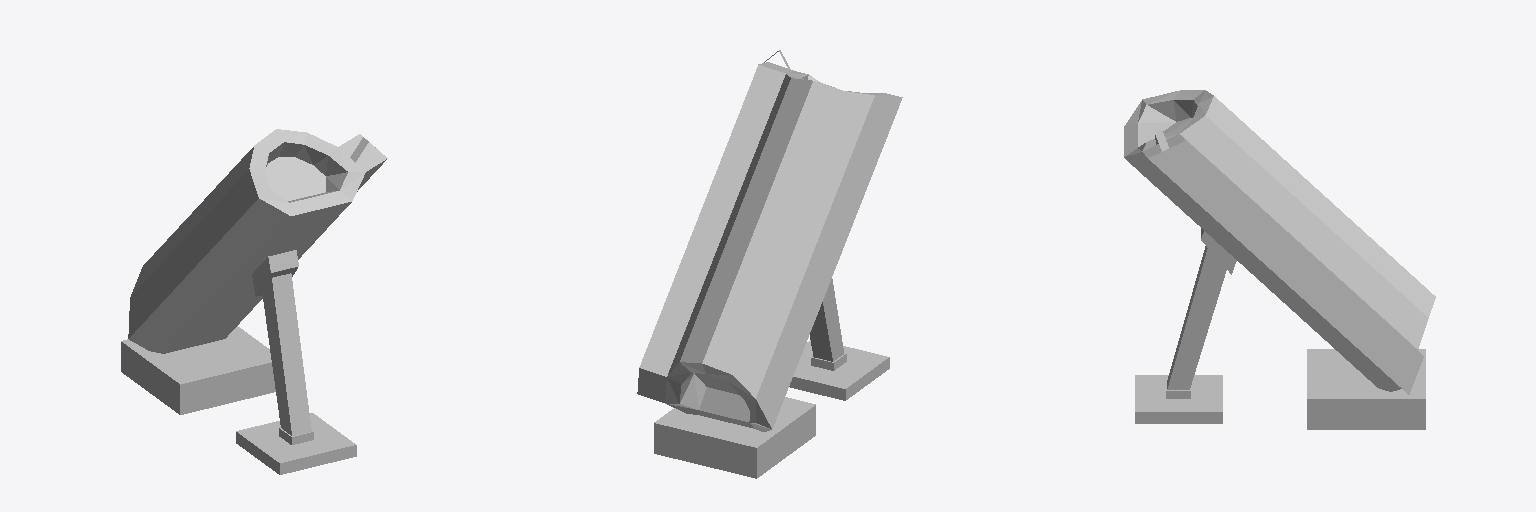
File: developer_normal.obj
The picture shows the model from 3 angles: view 1: azimuth 30°, elevation 25°; view 2: azimuth 150°, elevation 25°; view 3: azimuth 270°, elevation 25°; orthographic projection.
Parts seen in each view (by area): view 1: develop; view 2: develop; view 3: develop.
Part boxes in pixels (bbox=[...]): develop: bbox=[121, 129, 387, 474]; develop: bbox=[637, 50, 902, 478]; develop: bbox=[1124, 90, 1435, 429].
Size of the model in its own units: 2.56 by 5.72 by 5.25.